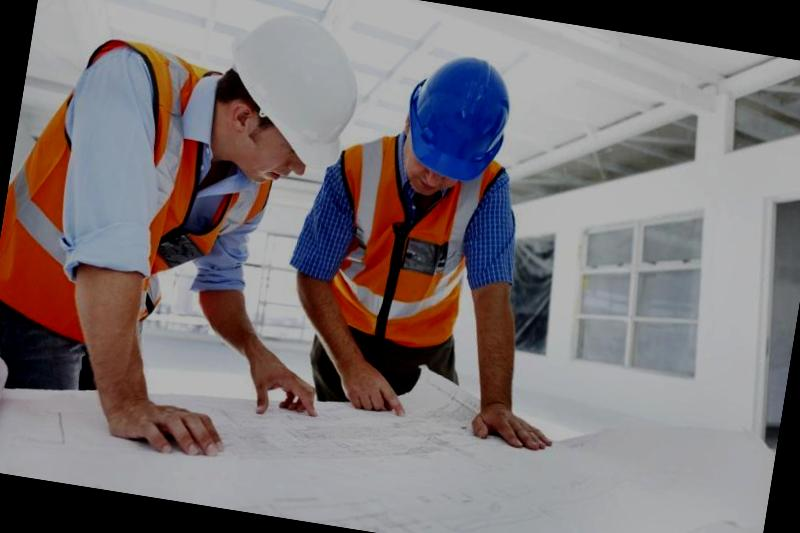helmet: (208, 4, 372, 173), (392, 47, 521, 193)
person: (0, 0, 376, 460), (292, 21, 574, 449)
